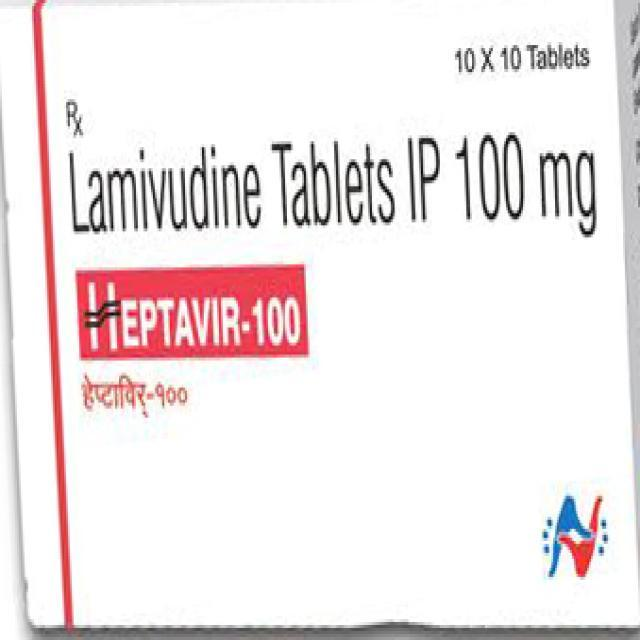drug-name: (84, 274, 300, 348)
